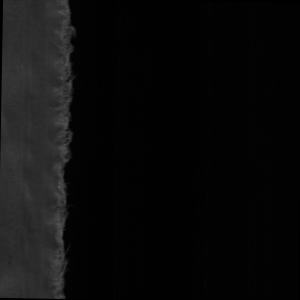Damage: (41, 1, 81, 300)
